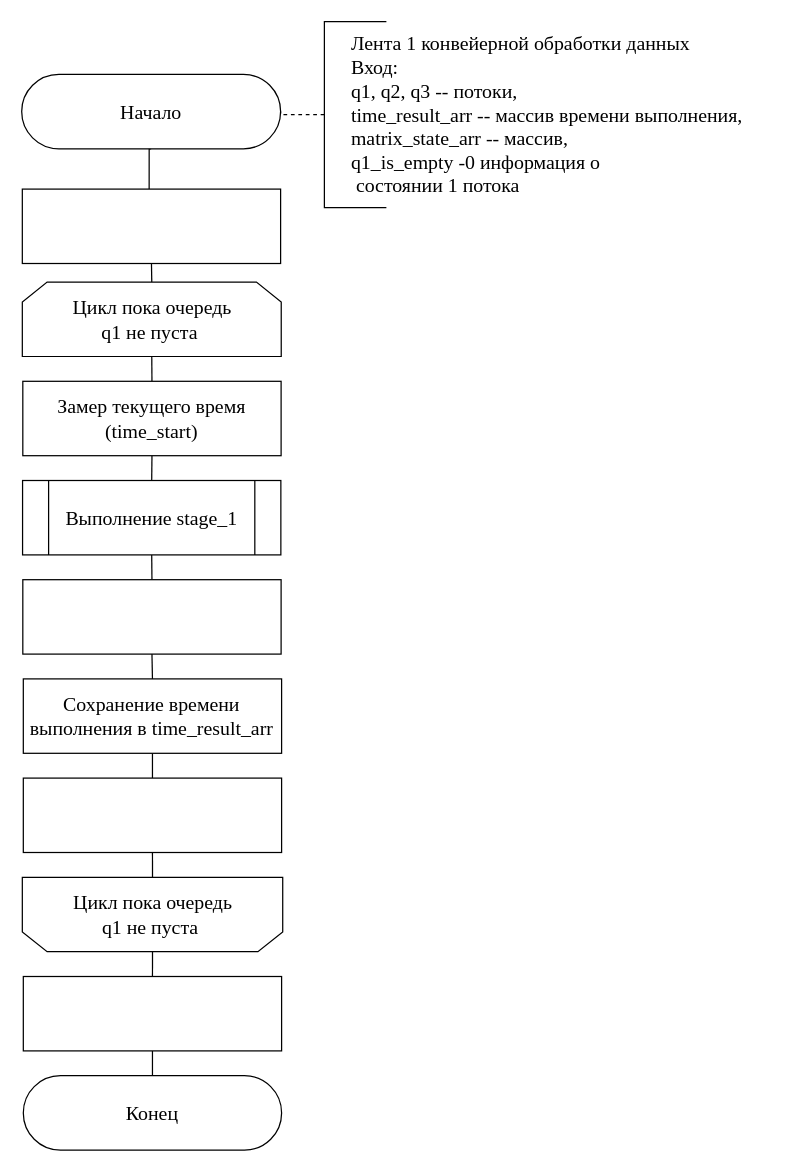
This 792x1172 diagram has some shape labels left out. The shapes that lost their labels are listed below. From the top down, each one's centre as x and y in pixels, then its label:
pixel 151 226: task_numb := 1
pixel 151 616: Замер текущего времени (time_end)
pixel 152 814: task_numb += 1
pixel 152 1013: q1_is_empty := true
